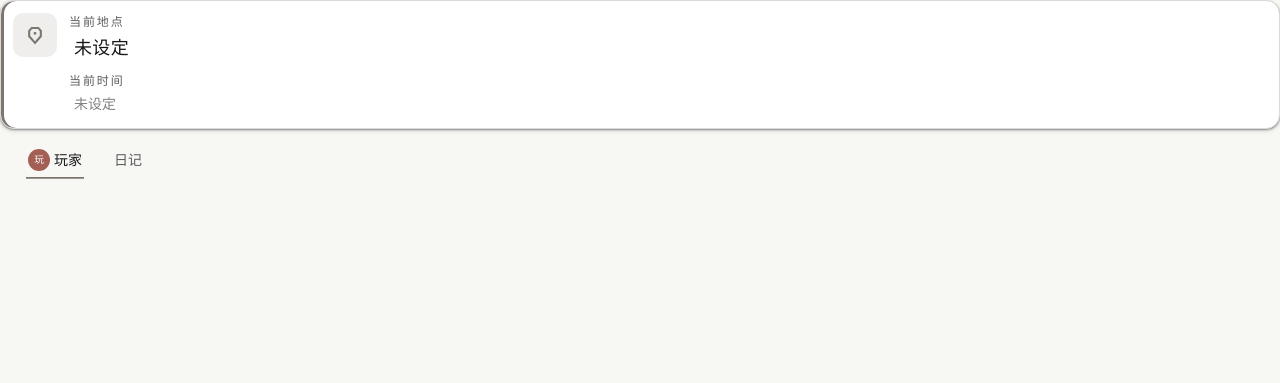
Test case: 保留日记展开状态和更多条目的无障碍状态
Click the tab "日记": {"x": 128, "y": 160} [98, 141, 158, 179]
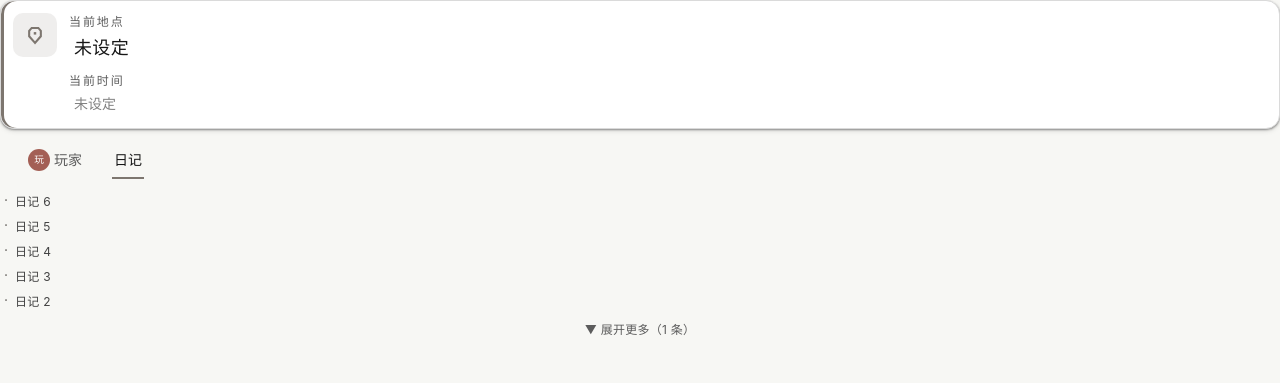
Click the button "▼ 展开更多（1 条）": {"x": 640, "y": 330} [4, 318, 1276, 342]
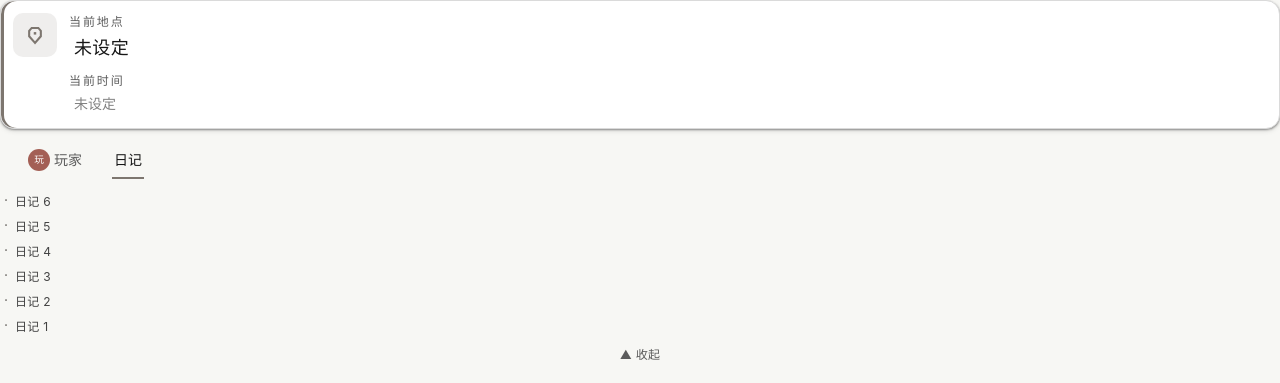
Now the text "日记 1" is shown, box [15, 318, 48, 336]
Now the button "▲ 收起" is expanded, box [4, 343, 1276, 367]
